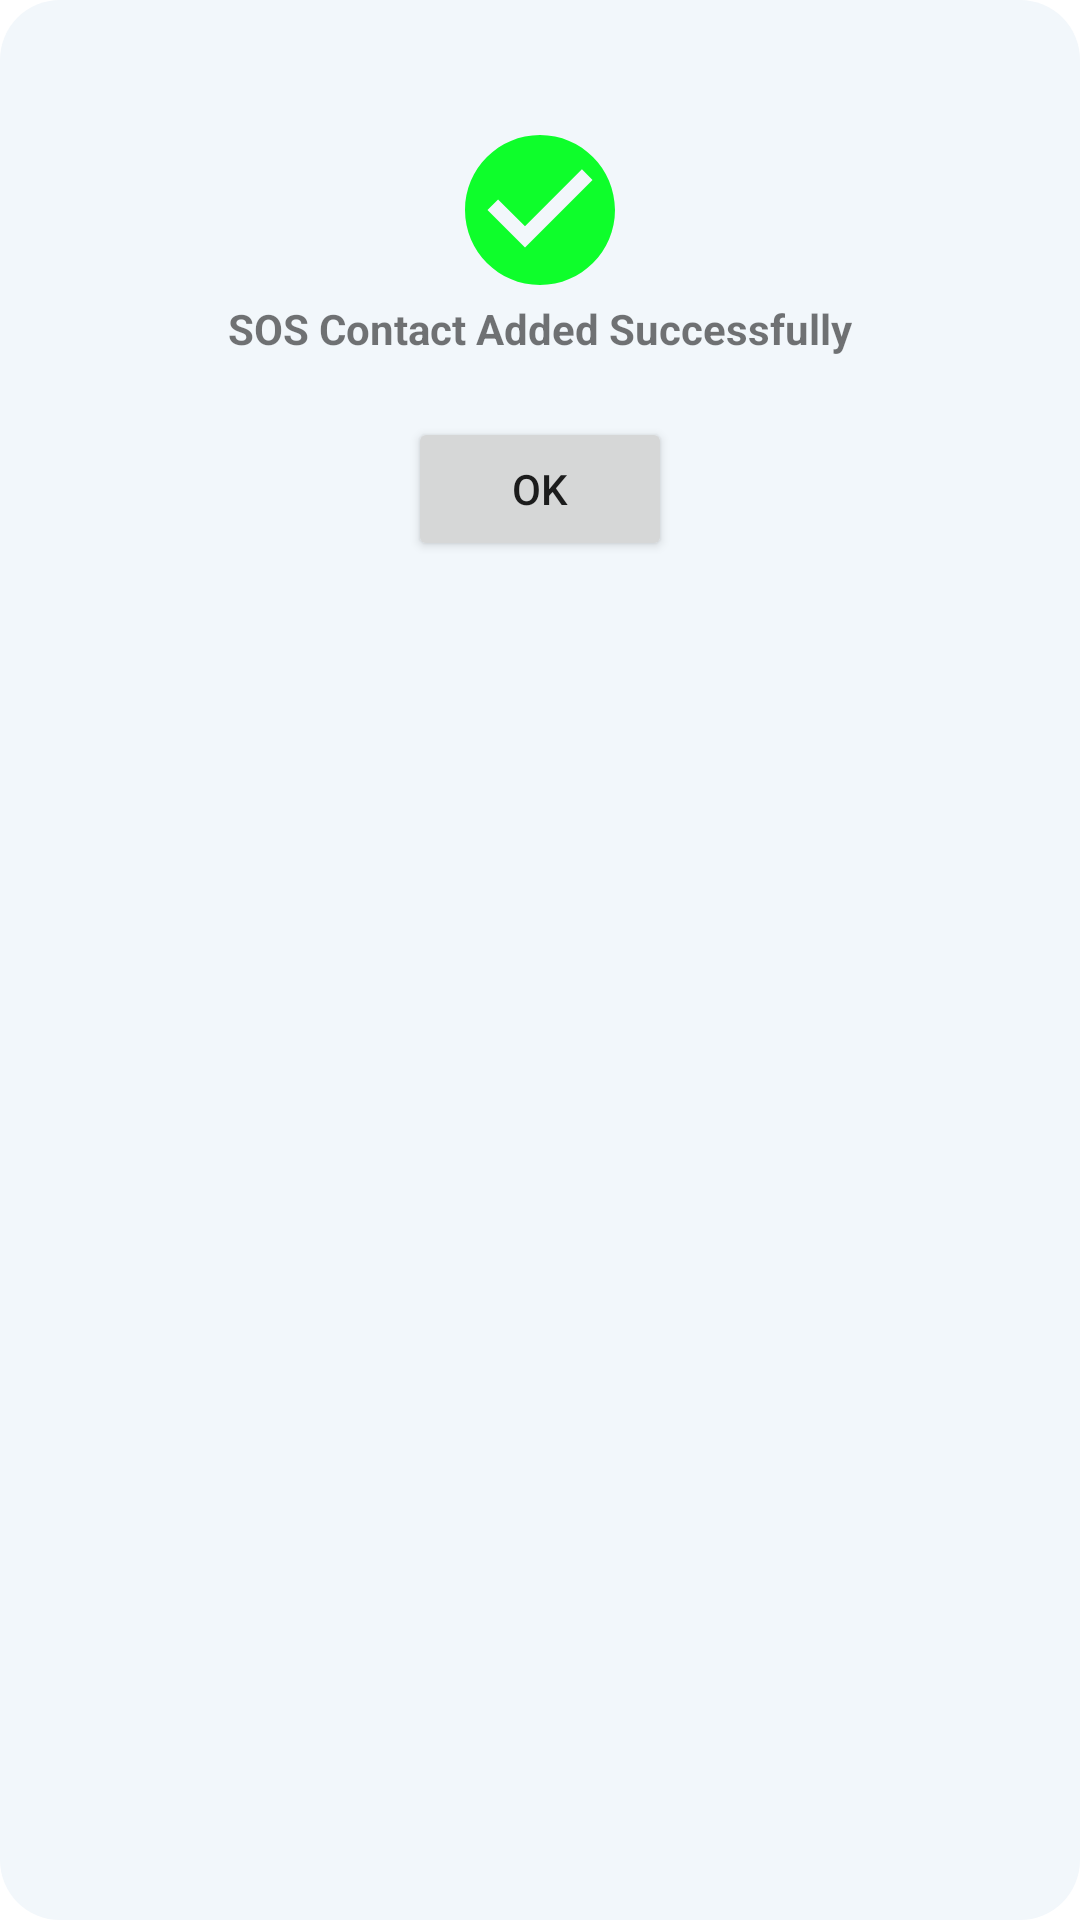

Screen size 1080*1920. Icon name, then its box in pixels as (x1, y1, x2, y2):
check circle: (465, 135, 615, 285)
